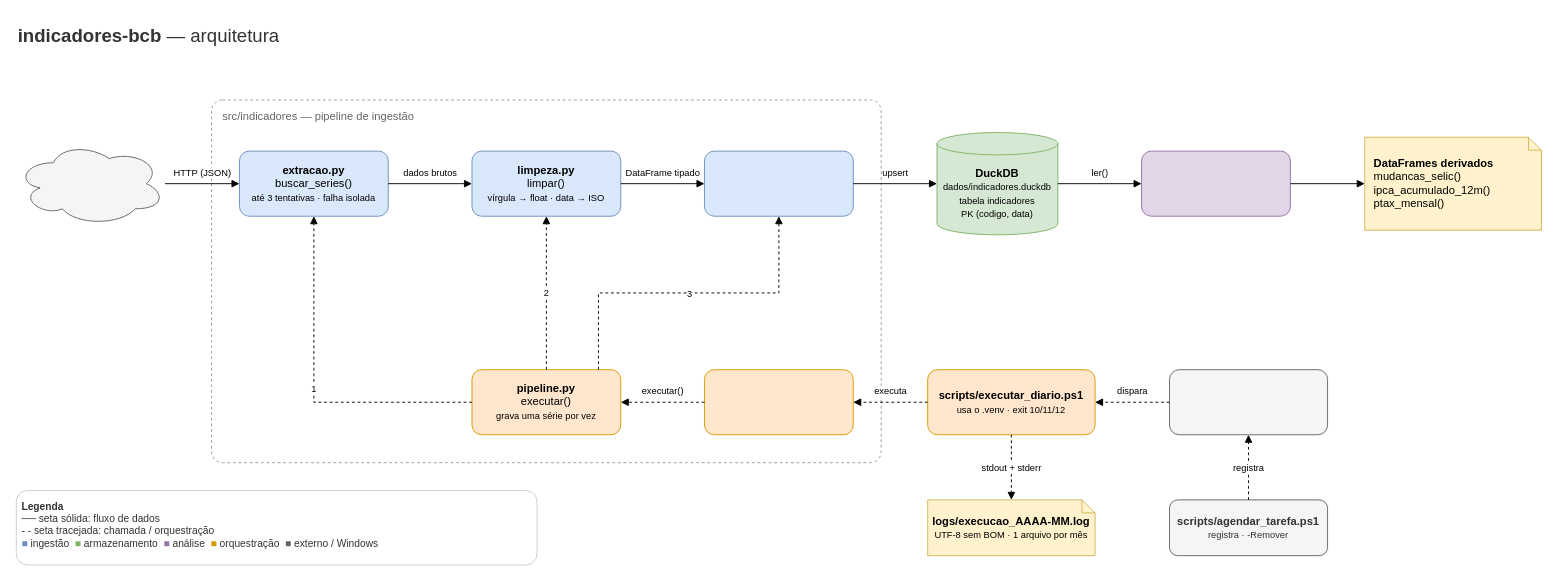
This 1558x581 diagram has some shape labels left out. The box of each missing label's shape, as (x1, y1, x2, y2) in pixels:
__main__.py python -m indicadores CLI · exit 0/1/2/3: (704, 369, 853, 435)
Agendador de Tarefas indicadores-bcb diario seg–sex · 19:00: (1169, 369, 1328, 435)
analise.py funções puras sobre DataFrame: (1141, 150, 1290, 216)
API SGS/BCB 432 Selic · 433 IPCA · 1 PTAX: (15, 141, 165, 226)
persistencia.py gravar() · ler() transação atômica: (704, 150, 853, 216)
